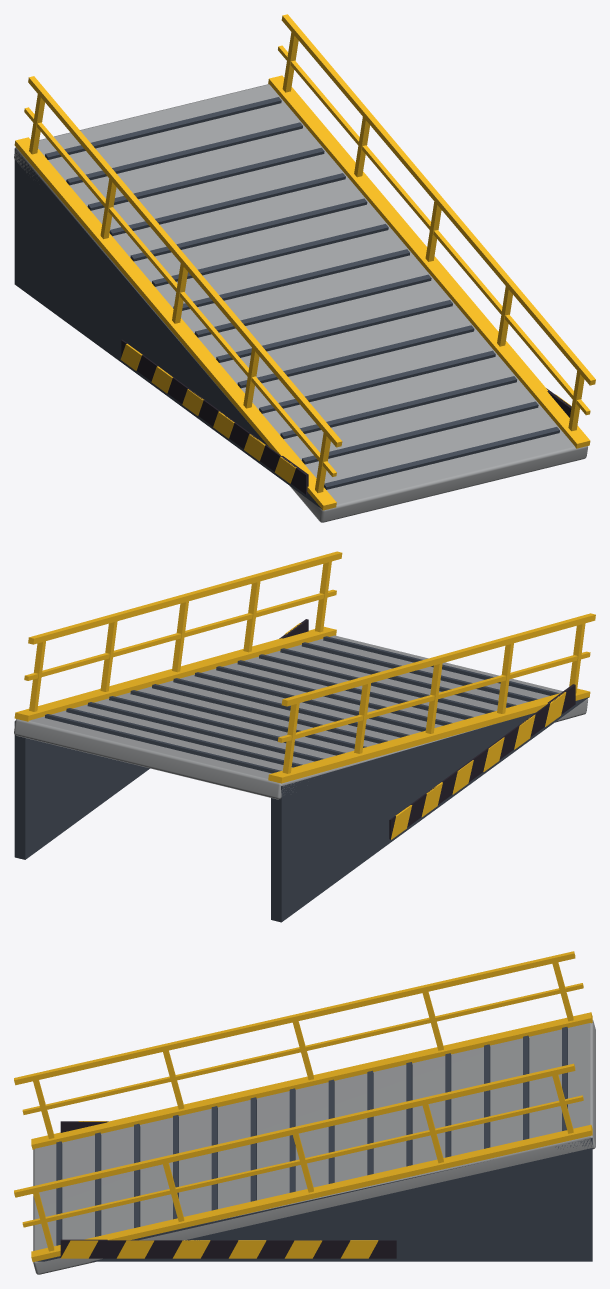
File: dune_ramp.glb
The picture shows the model from 3 angles, top to bottom: view 1: azimuth 30°, elevation 25°; view 2: azimuth 150°, elevation 25°; view 3: azimuth 270°, elevation 25°; orthographic projection. The views are drawn at different scales.
Visible parts, largest first — view 1: Ramp; view 2: Ramp; view 3: Ramp.
Boxes of the visible parts, left/top/right/bottom form: Ramp: left=14, top=14, right=595, bottom=522; Ramp: left=14, top=551, right=595, bottom=922; Ramp: left=14, top=951, right=595, bottom=1274.
Size of the model in its own units: 4.06 by 3.28 by 8.31.
